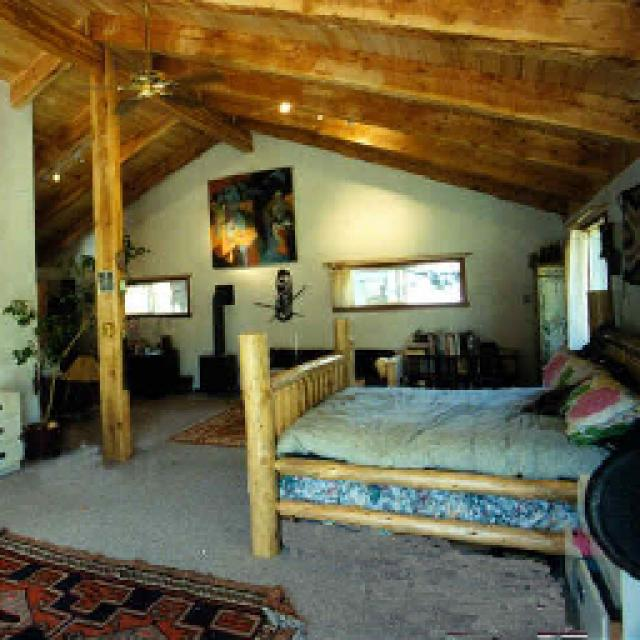2001: (328, 255, 462, 308), (572, 208, 602, 330), (122, 275, 185, 312)
bed -occluded-: (238, 315, 635, 555)
books crop: (402, 328, 458, 348)
cabinet door: (395, 340, 490, 382), (268, 345, 388, 372), (122, 338, 190, 385), (0, 390, 20, 467), (195, 352, 232, 390)
ceiling beam: (0, 0, 632, 242)
fan lamp: (80, 2, 222, 110)
night stand part: (562, 482, 635, 632)
painting crop: (205, 162, 295, 265)
pillow occluded: (562, 368, 635, 438), (515, 382, 558, 415), (545, 352, 588, 378)
plant -x: (0, 228, 142, 455)
rug -partially obscured-: (0, 525, 298, 638), (170, 402, 240, 445)
wall lamp: (248, 265, 308, 322)
